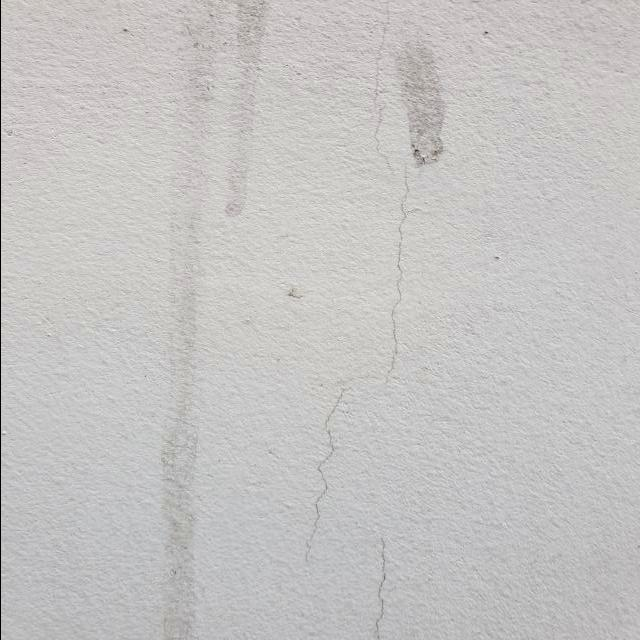SurfaceCrack: (283, 0, 442, 639)
